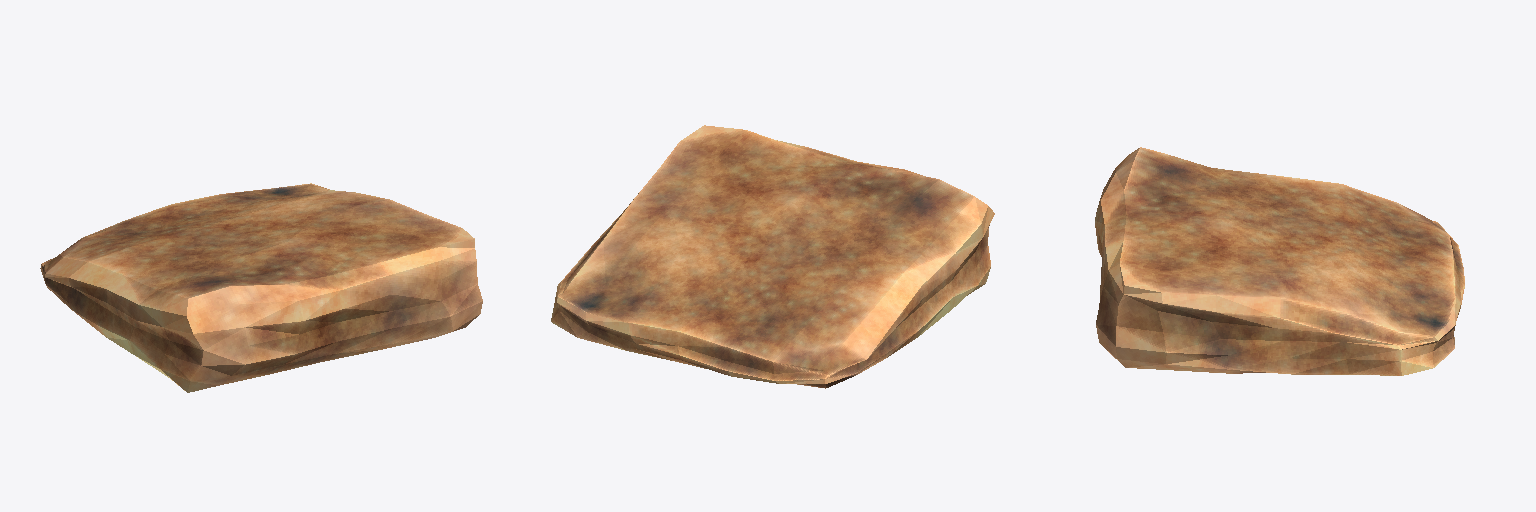
The picture shows the model from 3 angles: view 1: azimuth 30°, elevation 25°; view 2: azimuth 150°, elevation 25°; view 3: azimuth 270°, elevation 25°; orthographic projection.
Parts seen in each view (by area): view 1: Rock3; view 2: Rock3; view 3: Rock3.
Part boxes in pixels (left/top/right/bottom): Rock3: left=40, top=183, right=482, bottom=392; Rock3: left=551, top=125, right=994, bottom=388; Rock3: left=1095, top=147, right=1464, bottom=375.
Bounding box in the file's own units: 2.42 × 0.6989 × 2.48.
Materials: 1 (1 with a texture image).